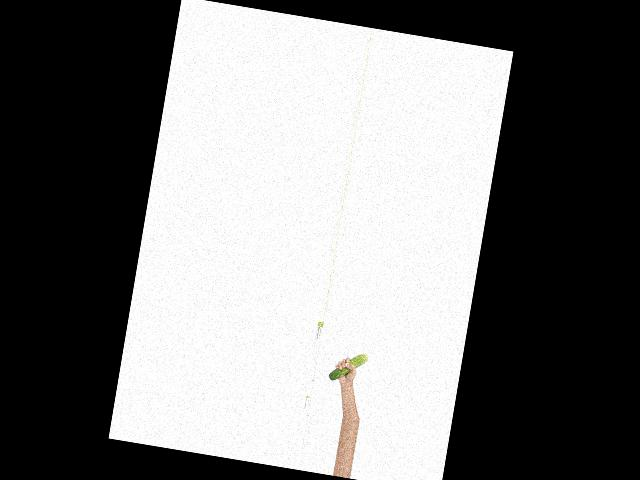cucumber: (327, 349, 368, 386)
